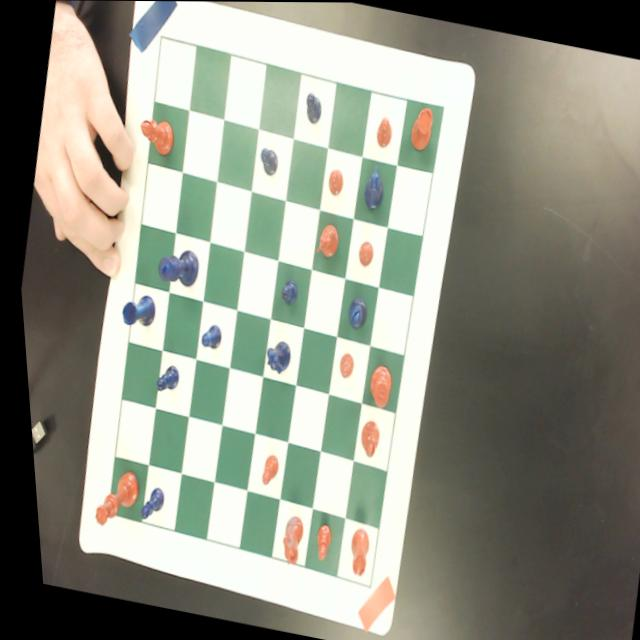B: (340, 293, 366, 330)
K: (150, 244, 200, 290)
N: (356, 161, 388, 213), (256, 337, 290, 378)
P: (129, 485, 159, 525), (147, 361, 177, 397), (300, 90, 325, 127), (193, 321, 219, 352), (253, 147, 279, 177), (274, 278, 296, 307)
R: (112, 291, 155, 331)
b: (132, 116, 176, 158), (350, 418, 377, 460)
k: (359, 362, 392, 410)
n: (267, 513, 299, 568), (309, 222, 338, 259)
p: (302, 523, 327, 563), (251, 453, 275, 487), (370, 116, 394, 150), (321, 168, 344, 199), (330, 351, 352, 381), (351, 240, 372, 268)
q: (81, 464, 139, 533)
r: (403, 103, 435, 157), (335, 526, 367, 579)
